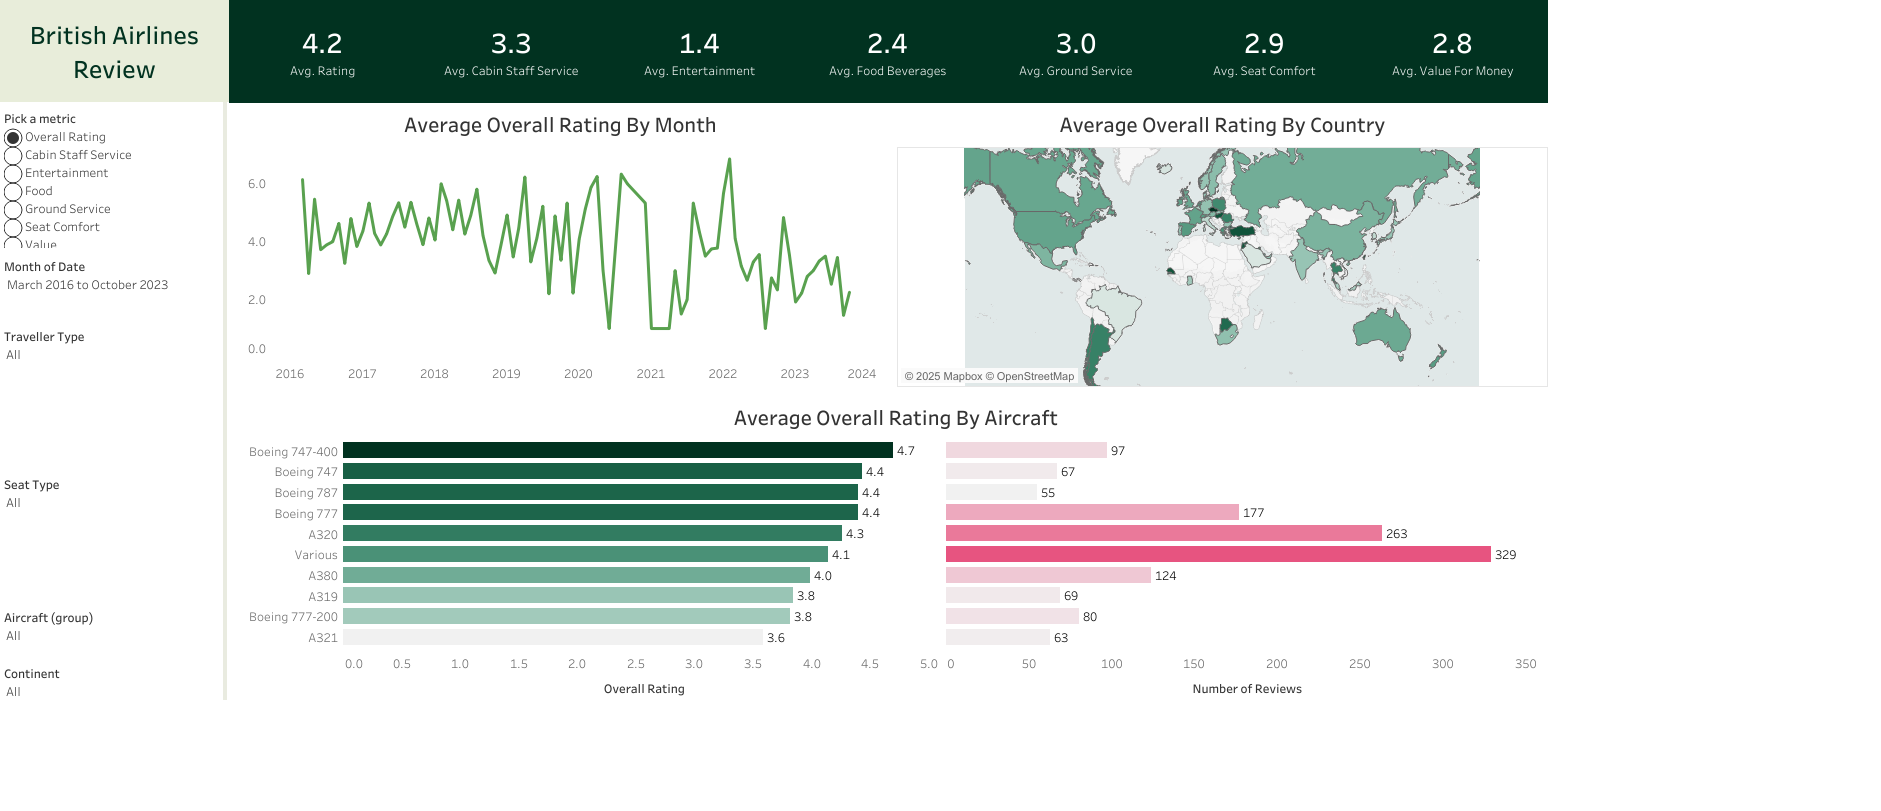

The page's visual inventory and layout, read from the dashboard file:
{"tool":"tableau","page":{"name":"Dashboard 1","canvas":[1000,1000],"units":"permille","ordinal":0},"visuals":[{"type":"text","box":[0,0,121.6,125.5]},{"type":"worksheet","title":"Summary","mark":"Automatic","box":[121.6,0,700.3,125.5]},{"type":"blank","box":[118.5,125.5,1.8,736.5]},{"type":"parameter","param":"[Parameters].[Parameter 1]","box":[0,128,121.6,178.8]},{"type":"worksheet","title":"Month","mark":"Automatic","rows":["Calculation_1055533051777246"],"cols":["date"],"box":[128.9,128,337.4,348.8]},{"type":"worksheet","title":"Map","mark":"Automatic","box":[476.6,128,345.9,348.8]},{"type":"filter","title":"Map","param":"[federated.1y0bp2n0gihuer19ix7301x1r7ra].[tmn:date:qk]","box":[0,306.8,121.6,87.8]},{"type":"filter","title":"Map","param":"[federated.1y0bp2n0gihuer19ix7301x1r7ra].[none:traveller_type:nk]","box":[0,394.6,121.6,178.8]},{"type":"worksheet","title":"Aircraft","mark":"Automatic","cols":["Calculation_1055533051777246","ba_reviews.csv_A15A9C4B223C4F028E1D944D9CBCB4C1"],"box":[128.9,489.3,694.2,377.7]},{"type":"filter","title":"Map","param":"[federated.1y0bp2n0gihuer19ix7301x1r7ra].[none:seat_type:nk]","box":[0,573.4,121.6,166.9]},{"type":"filter","title":"Map","param":"[federated.1y0bp2n0gihuer19ix7301x1r7ra].[Aircraft (group)]","box":[0,740.2,121.6,70.3]},{"type":"filter","title":"Map","param":"[federated.1y0bp2n0gihuer19ix7301x1r7ra].[none:Continent:nk]","box":[0,810.5,121.6,70.3]}]}

Visuals, with their boxes on the dashboard's canvas, which has no fixed pixel size, in thousandths of its width and height (x1, y1, x2, y2). These are canvas units, not pixel positions in the 1881x811 screenshot, which may show the page scaled, cropped or inside an application window:
text: detection(0, 0, 122, 126)
"Summary" worksheet: detection(122, 0, 822, 126)
blank: detection(118, 126, 120, 862)
parameter: detection(0, 128, 122, 307)
"Month" worksheet: detection(129, 128, 466, 477)
"Map" worksheet: detection(477, 128, 822, 477)
"Map" filter: detection(0, 307, 122, 395)
"Map" filter: detection(0, 395, 122, 573)
"Aircraft" worksheet: detection(129, 489, 823, 867)
"Map" filter: detection(0, 573, 122, 740)
"Map" filter: detection(0, 740, 122, 810)
"Map" filter: detection(0, 810, 122, 881)
